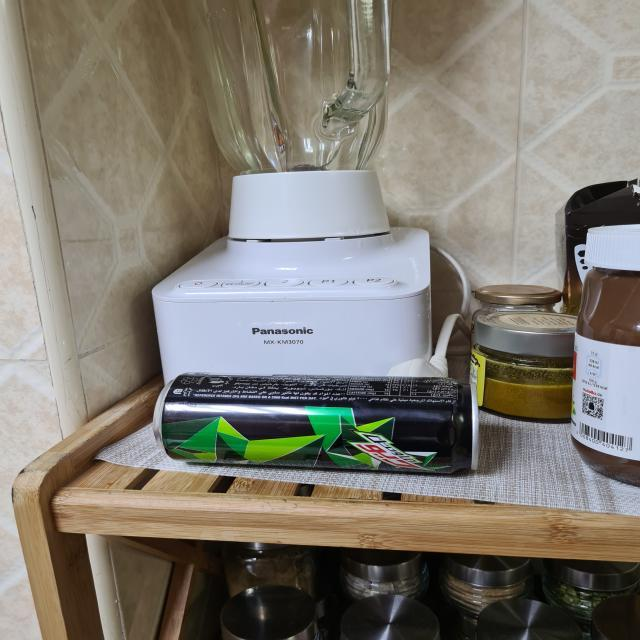can: (142, 361, 478, 482)
